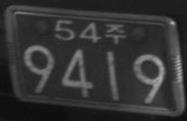1: (98, 51, 127, 101)
4: (61, 48, 92, 97), (79, 21, 101, 43)
5: (54, 18, 75, 41)
9: (132, 52, 165, 104), (22, 43, 55, 94)
주: (104, 22, 127, 44)
